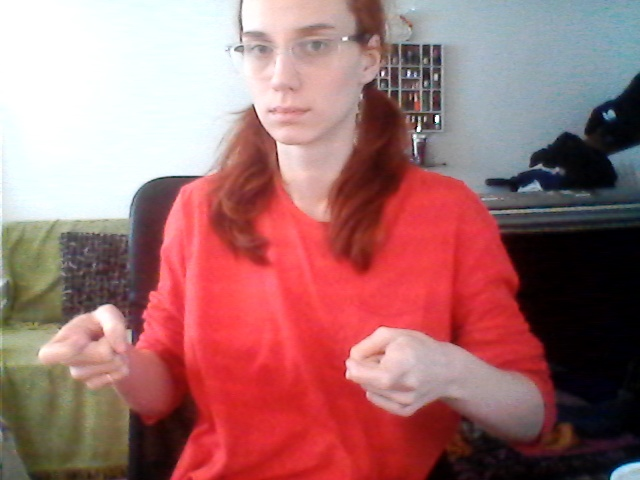davat: (37, 294, 434, 426)
